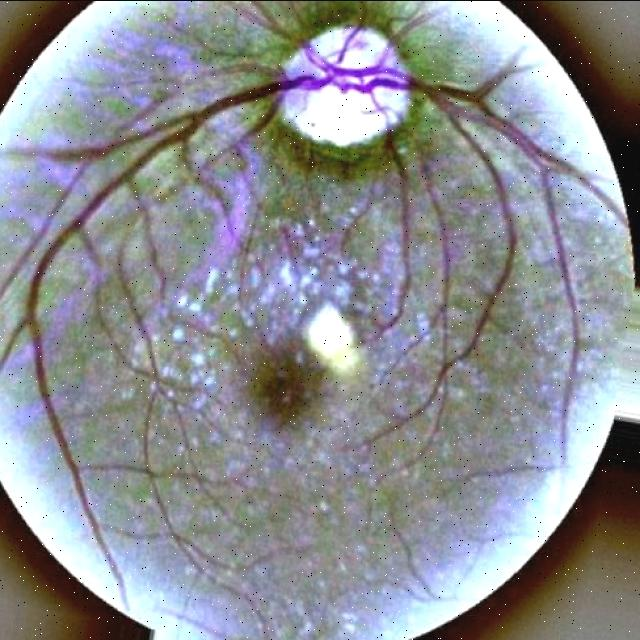Macula: (260, 353, 328, 424)
Nerves: (0, 0, 624, 557), (374, 127, 417, 337), (418, 151, 455, 346), (371, 13, 429, 67)
Optic Disk: (281, 26, 410, 147)
